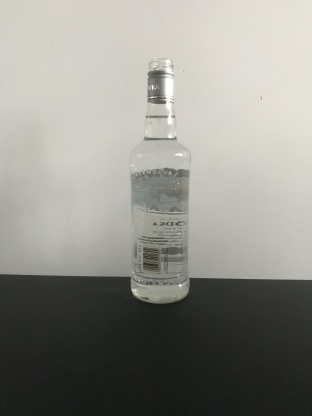nakretka: (145, 57, 176, 105)
